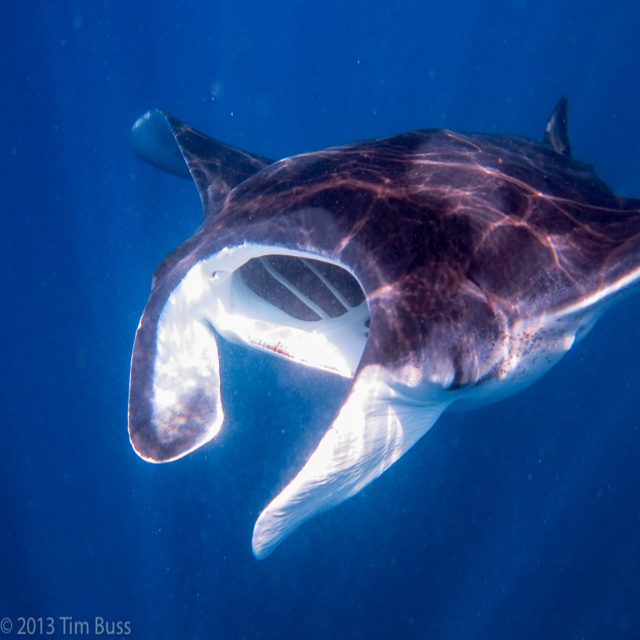Fish: (128, 95, 640, 561)
